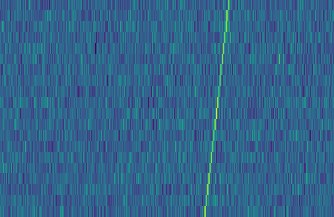signal: (201, 0, 235, 217)
